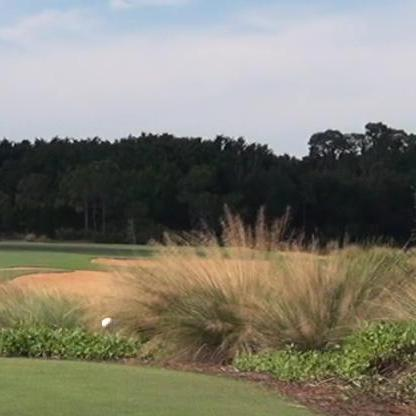golfball: (99, 316, 110, 329)
